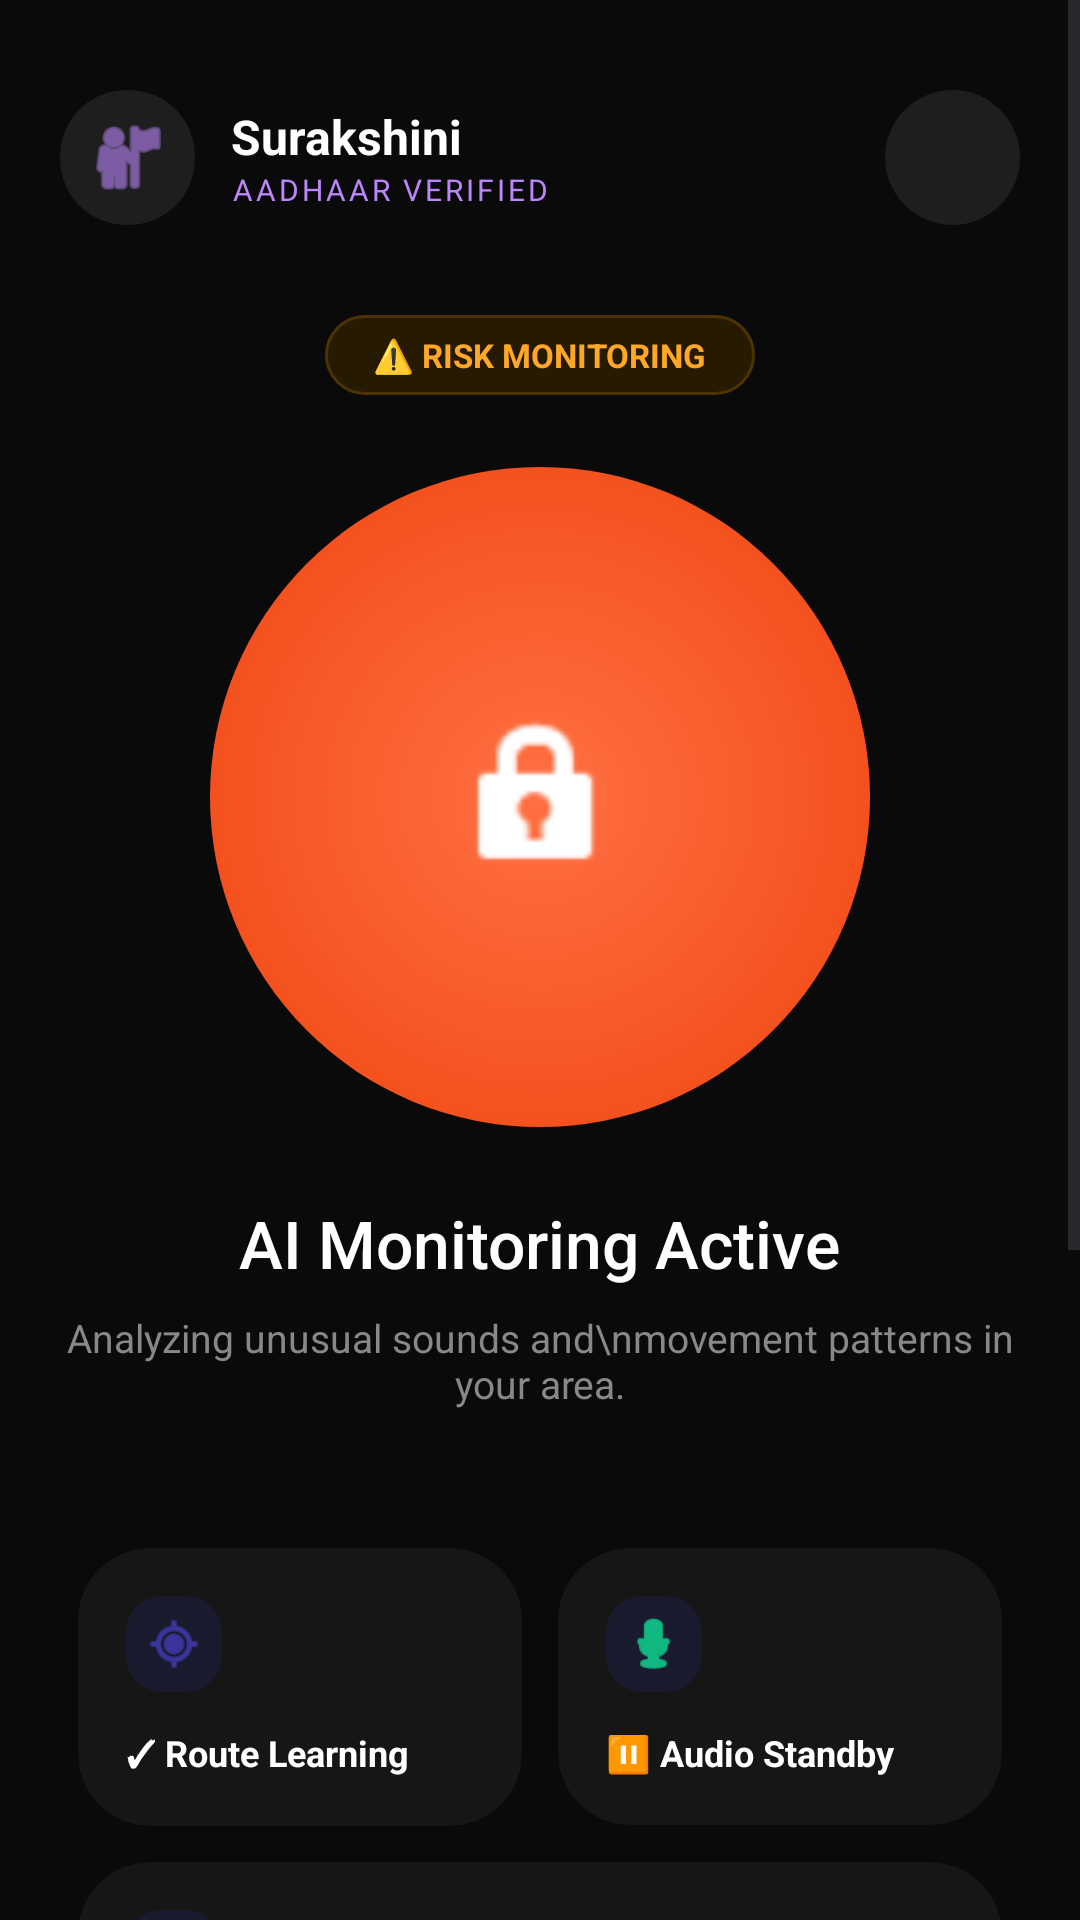

Icon click points for this 1080 x 1920 phone screenshot, format point (x, y):
lock idle: point (536, 791)
mylocation: point (174, 1644)
presence audio online: point (653, 1643)
